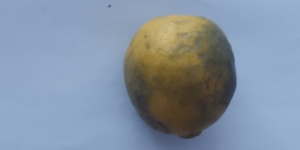BAD: (124, 16, 239, 140)
